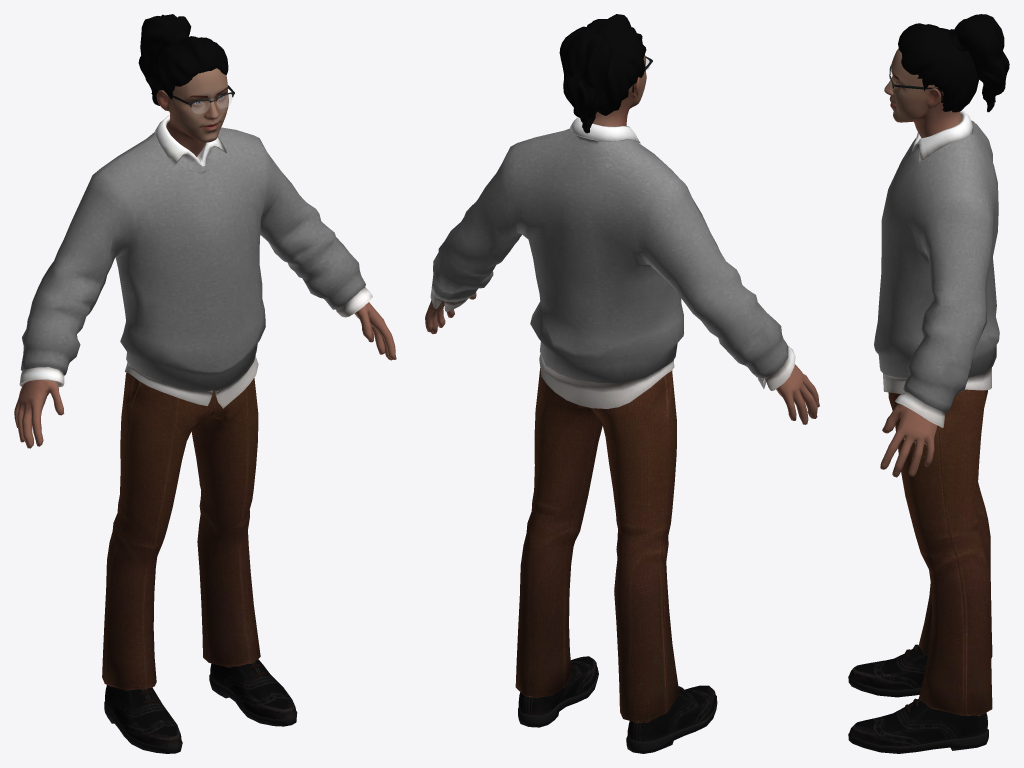
The model's file is Fadhel.glb.
The picture shows the model from 3 angles, left to right: view 1: azimuth 30°, elevation 25°; view 2: azimuth 150°, elevation 25°; view 3: azimuth 270°, elevation 25°; orthographic projection. The views are drawn at different scales.
Visible parts, largest first — view 1: Wolf3D_Outfit_Top, Wolf3D_Outfit_Bottom, Wolf3D_Outfit_Footwear, Wolf3D_Hair, Wolf3D_Head, Wolf3D_Body; view 2: Wolf3D_Outfit_Top, Wolf3D_Outfit_Bottom, Wolf3D_Hair, Wolf3D_Outfit_Footwear, Wolf3D_Body, Wolf3D_Head; view 3: Wolf3D_Outfit_Top, Wolf3D_Outfit_Bottom, Wolf3D_Outfit_Footwear, Wolf3D_Hair, Wolf3D_Head, Wolf3D_Body.
Part boxes in pixels (x1,y1,x2,y2): Wolf3D_Outfit_Top: (19, 115, 372, 408); Wolf3D_Outfit_Bottom: (102, 372, 260, 690); Wolf3D_Outfit_Footwear: (104, 658, 297, 753); Wolf3D_Hair: (138, 14, 228, 105); Wolf3D_Head: (156, 68, 228, 156); Wolf3D_Body: (14, 302, 396, 448); Wolf3D_Outfit_Top: (430, 117, 795, 408); Wolf3D_Outfit_Bottom: (515, 368, 679, 723); Wolf3D_Hair: (559, 14, 646, 133); Wolf3D_Outfit_Footwear: (518, 656, 717, 753); Wolf3D_Body: (425, 292, 819, 424); Wolf3D_Head: (592, 55, 646, 126); Wolf3D_Outfit_Top: (874, 110, 999, 427); Wolf3D_Outfit_Bottom: (888, 389, 992, 715); Wolf3D_Outfit_Footwear: (848, 644, 988, 753); Wolf3D_Hair: (898, 14, 1009, 112); Wolf3D_Head: (884, 48, 962, 138); Wolf3D_Body: (880, 404, 937, 477).
Size of the model in its own units: 1.06 by 1.88 by 0.3938.
9 materials, 9 textured.
